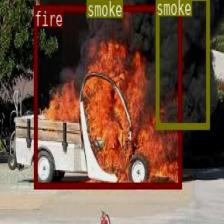fire: (34, 4, 181, 188)
smoke: (154, 0, 209, 127), (86, 0, 112, 8)
